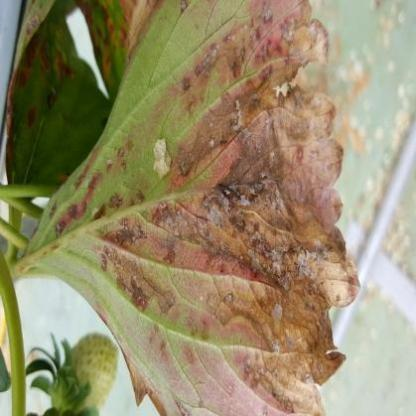Strawberry_Angular_LeafSpot: (15, 0, 362, 415), (5, 0, 128, 188)
